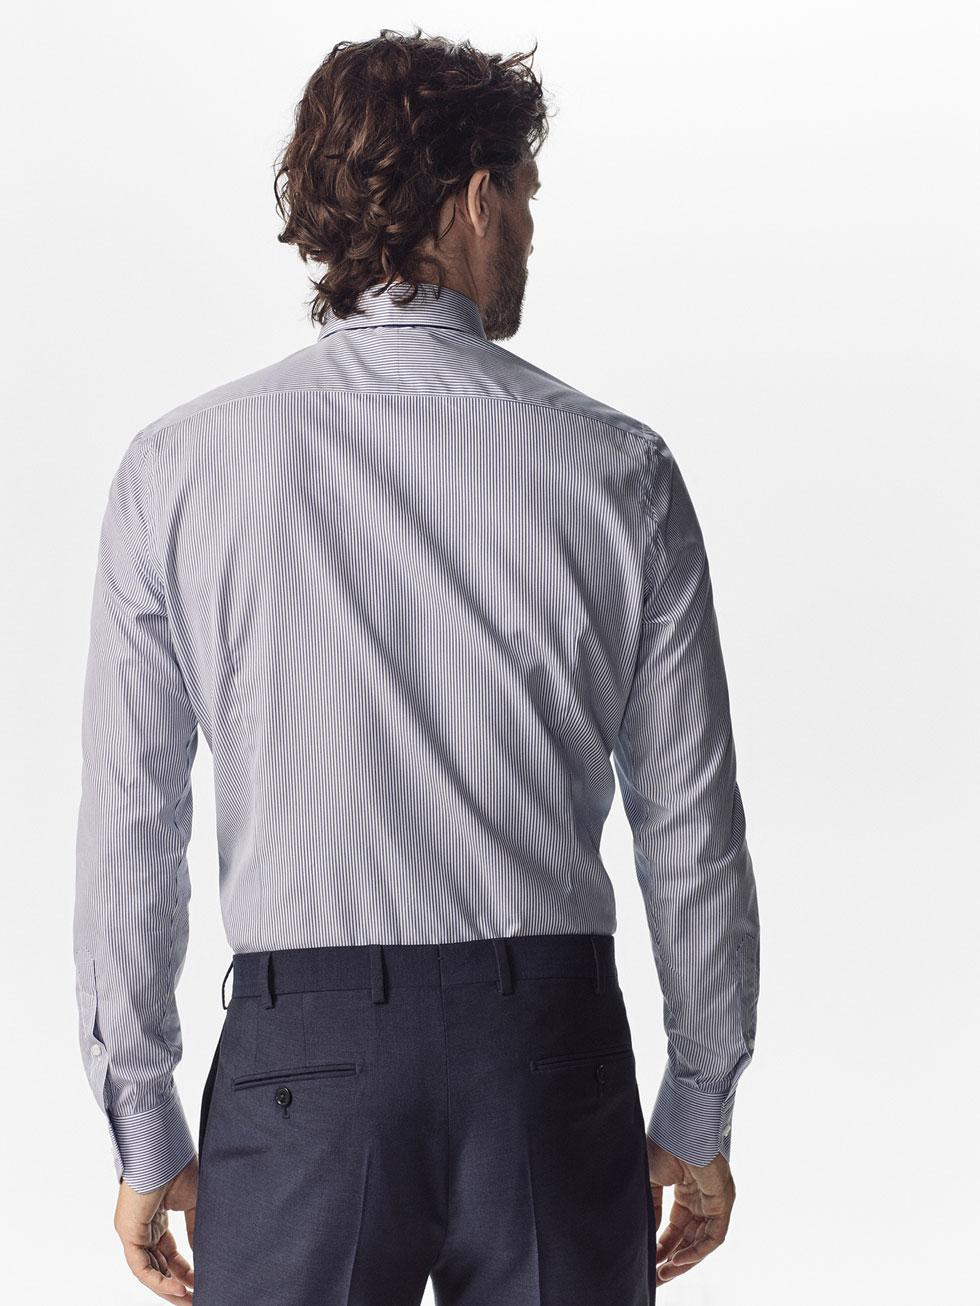teeshirt: (35, 271, 799, 1203)
